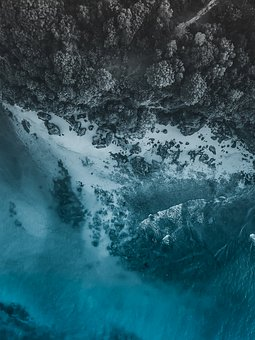sea: (8, 14, 255, 340)
